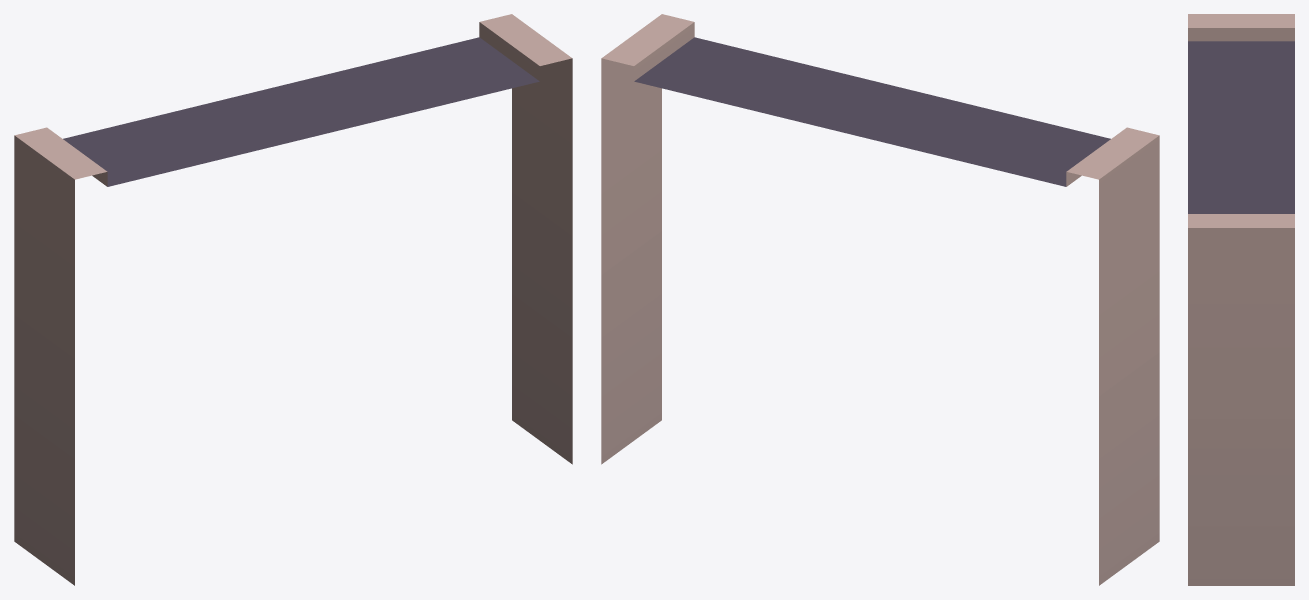
File: FinalBorders.fbx
The picture shows the model from 3 angles, left to right: view 1: azimuth 30°, elevation 25°; view 2: azimuth 150°, elevation 25°; view 3: azimuth 270°, elevation 25°; orthographic projection. The views are drawn at different scales.
Visible parts, largest first — view 1: Road_Straight.004; view 2: Road_Straight.004; view 3: Road_Straight.004.
Part boxes in pixels (x1,y1,x2,y2): Road_Straight.004: (14,14,572,585); Road_Straight.004: (601,14,1159,585); Road_Straight.004: (1188,14,1294,585).
Size of the model in its own units: 385 by 301 by 81.18.
